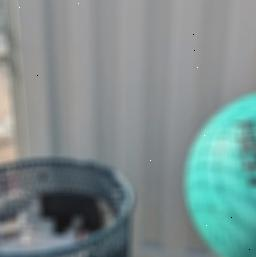algae: (182, 84, 256, 257)
